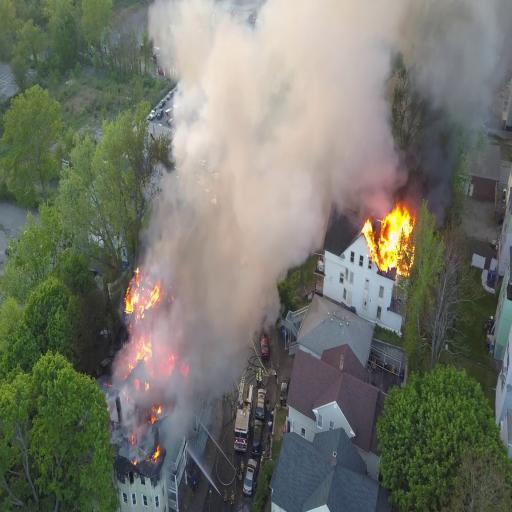fire: (364, 196, 420, 279)
